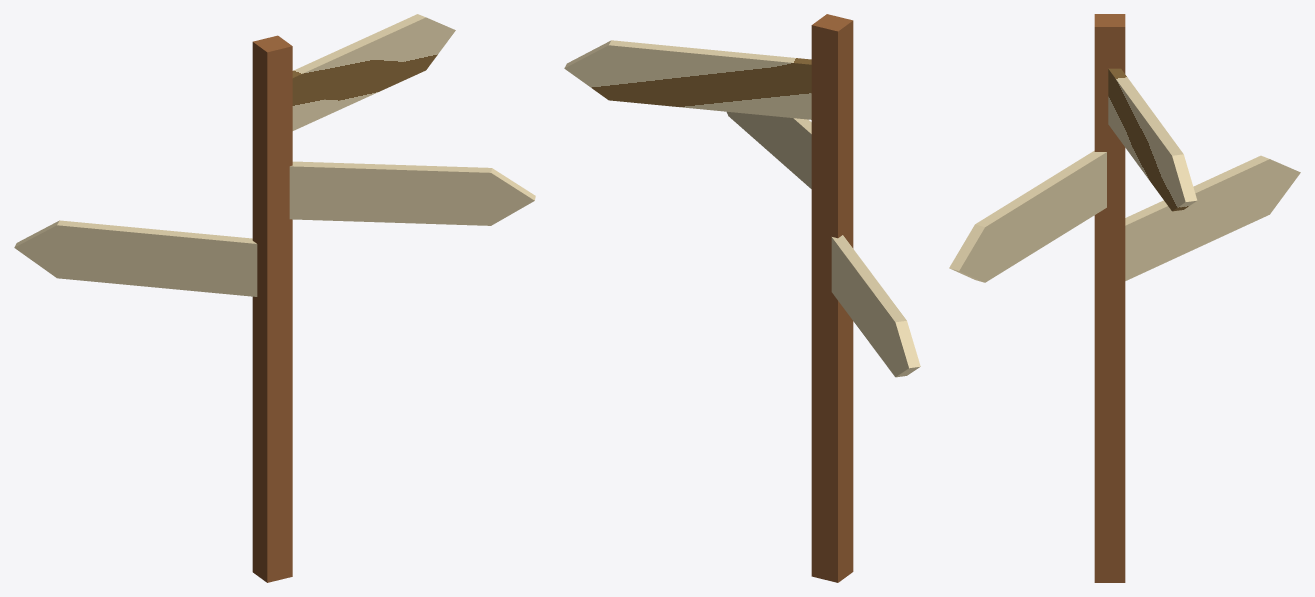
Rendered from signpost.glb.
3 renders of one model, left to right at view 1: azimuth 30°, elevation 25°; view 2: azimuth 150°, elevation 25°; view 3: azimuth 270°, elevation 25°, orthographic. The views are drawn at different scales.
Visible parts, largest first — view 1: signpost; view 2: signpost; view 3: signpost.
Boxes of the visible parts, bbox=[...] form: signpost: bbox=[14, 14, 535, 582]; signpost: bbox=[564, 14, 920, 582]; signpost: bbox=[949, 14, 1300, 582].
Bounding box in the file's own units: 1.54 × 2 × 1.15.
2 materials, 2 textured.
